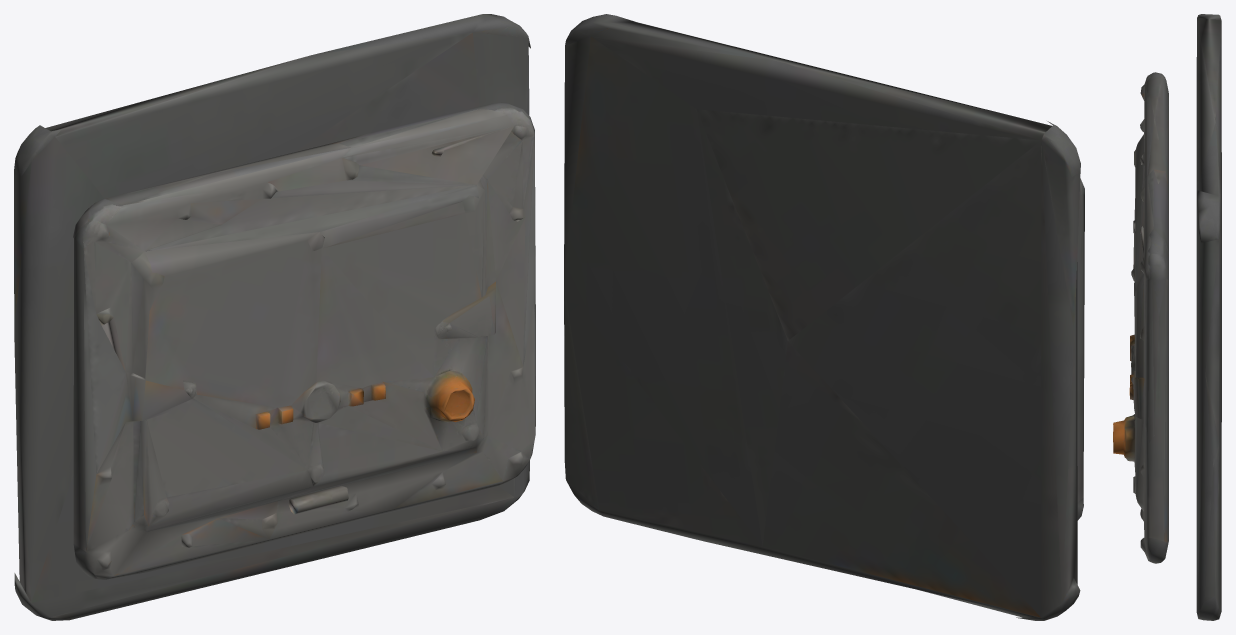
The picture shows the model from 3 angles, left to right: view 1: azimuth 30°, elevation 25°; view 2: azimuth 150°, elevation 25°; view 3: azimuth 270°, elevation 25°; orthographic projection. The views are drawn at different scales.
Bounding box in the file's own units: 1.9 × 1.77 × 0.4106.
1 material, 1 textured.
